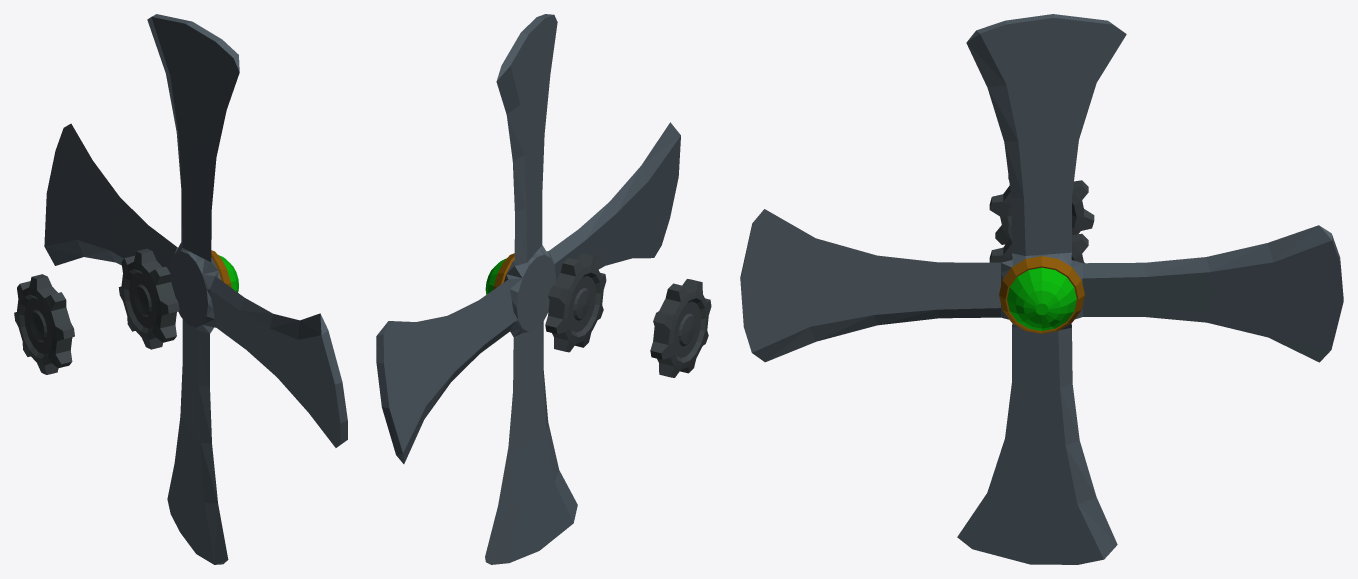
File: HeliceG_R.obj
The picture shows the model from 3 angles, left to right: view 1: azimuth 30°, elevation 25°; view 2: azimuth 150°, elevation 25°; view 3: azimuth 270°, elevation 25°; orthographic projection. The views are drawn at different scales.
Visible parts, largest first — view 1: Helice_Grande_R_Sphere.005; view 2: Helice_Grande_R_Sphere.005; view 3: Helice_Grande_R_Sphere.005.
Boxes of the visible parts, bbox=[...] form: Helice_Grande_R_Sphere.005: bbox=[14, 14, 347, 564]; Helice_Grande_R_Sphere.005: bbox=[376, 14, 711, 564]; Helice_Grande_R_Sphere.005: bbox=[740, 14, 1343, 564].
Bounding box in the file's own units: 1.84 × 4.63 × 4.63.
Materials: 1 (1 with a texture image).
